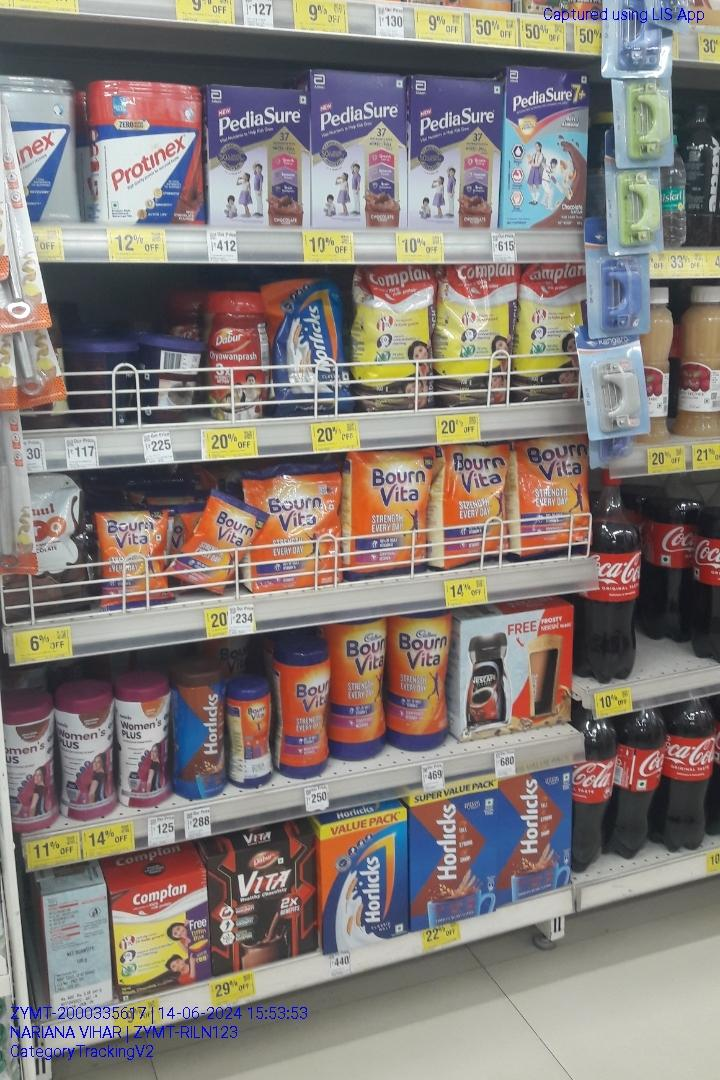BOURN_VITA_1_KG_JAR: (387, 612, 450, 752), (332, 620, 387, 761)
BOURN_VITA_500_G_JAR: (281, 649, 329, 778)
BOURN_VITA_500_G_POUCH: (253, 465, 344, 587)
BOURN_VITA_750_G_POUCH: (347, 451, 435, 573), (518, 436, 593, 557), (442, 445, 509, 565)
BOURN_VITA_75_G_POUCH: (99, 504, 173, 607), (181, 494, 249, 594)
COMPLAN_CHOCOLATE_500_GMS_PACK: (411, 780, 499, 920), (501, 774, 573, 890)
COMPLAN_RC_POUCH_700_GMS_12: (356, 264, 435, 412), (438, 266, 519, 406), (522, 264, 581, 399)
HORLICK_CHOCOLATE_500_G_JAR: (173, 671, 227, 800)
PEDIASURE_CHOCOLATE_500_G_PACK: (309, 68, 405, 230), (207, 83, 310, 225), (407, 74, 499, 232)
PROTINEX_CHOCOLATE_400_G_JAR: (96, 78, 204, 226)
